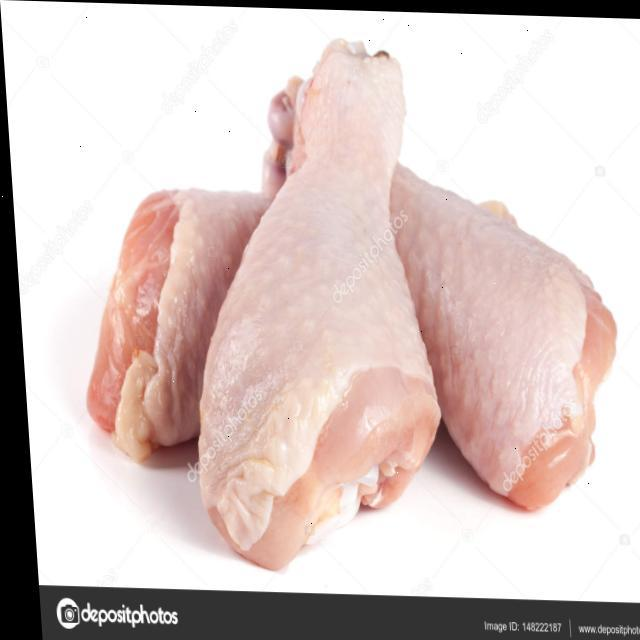leg: (263, 72, 612, 494), (176, 51, 442, 560), (71, 65, 329, 458)
